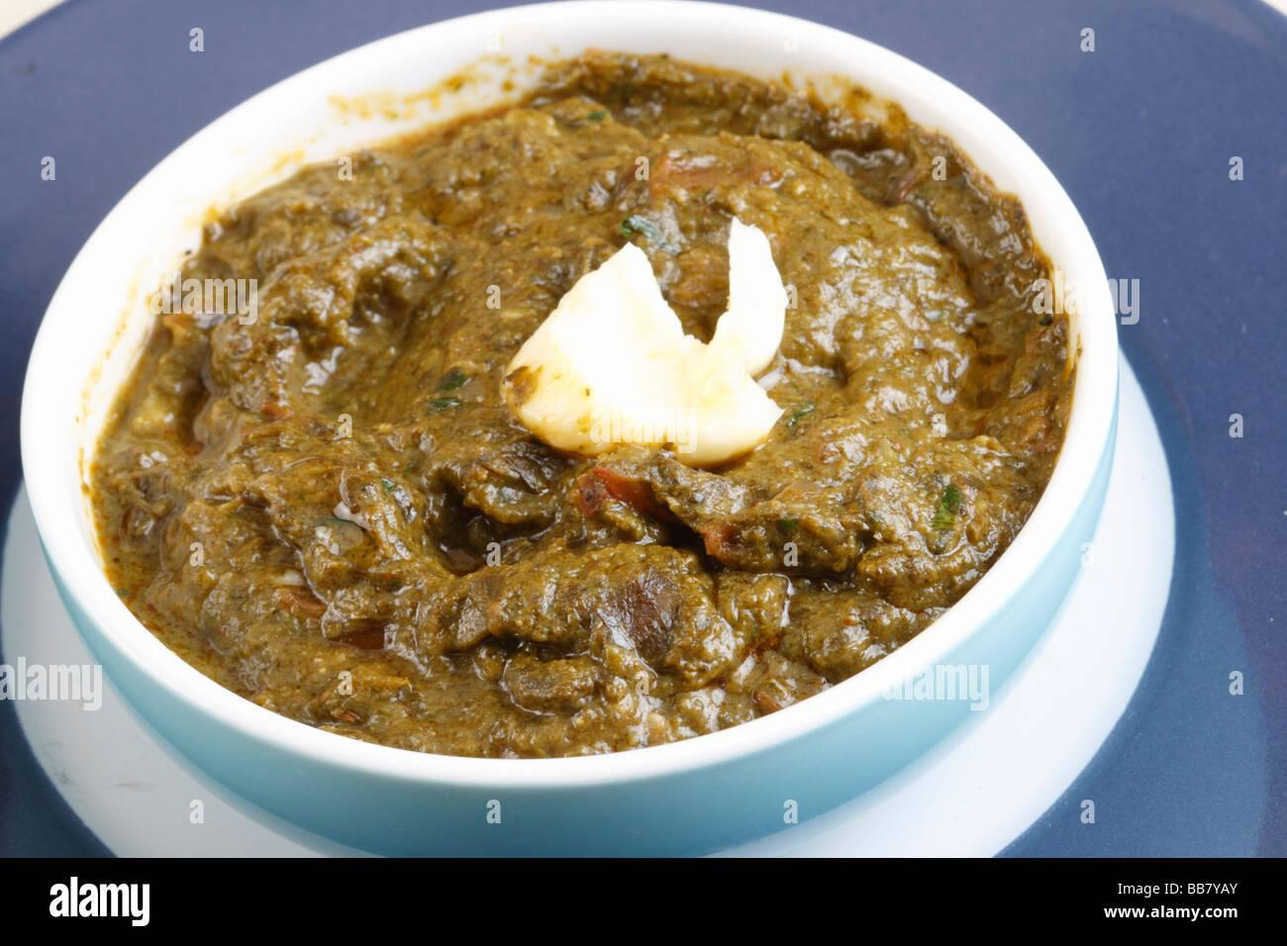saag: (94, 139, 1062, 761)
